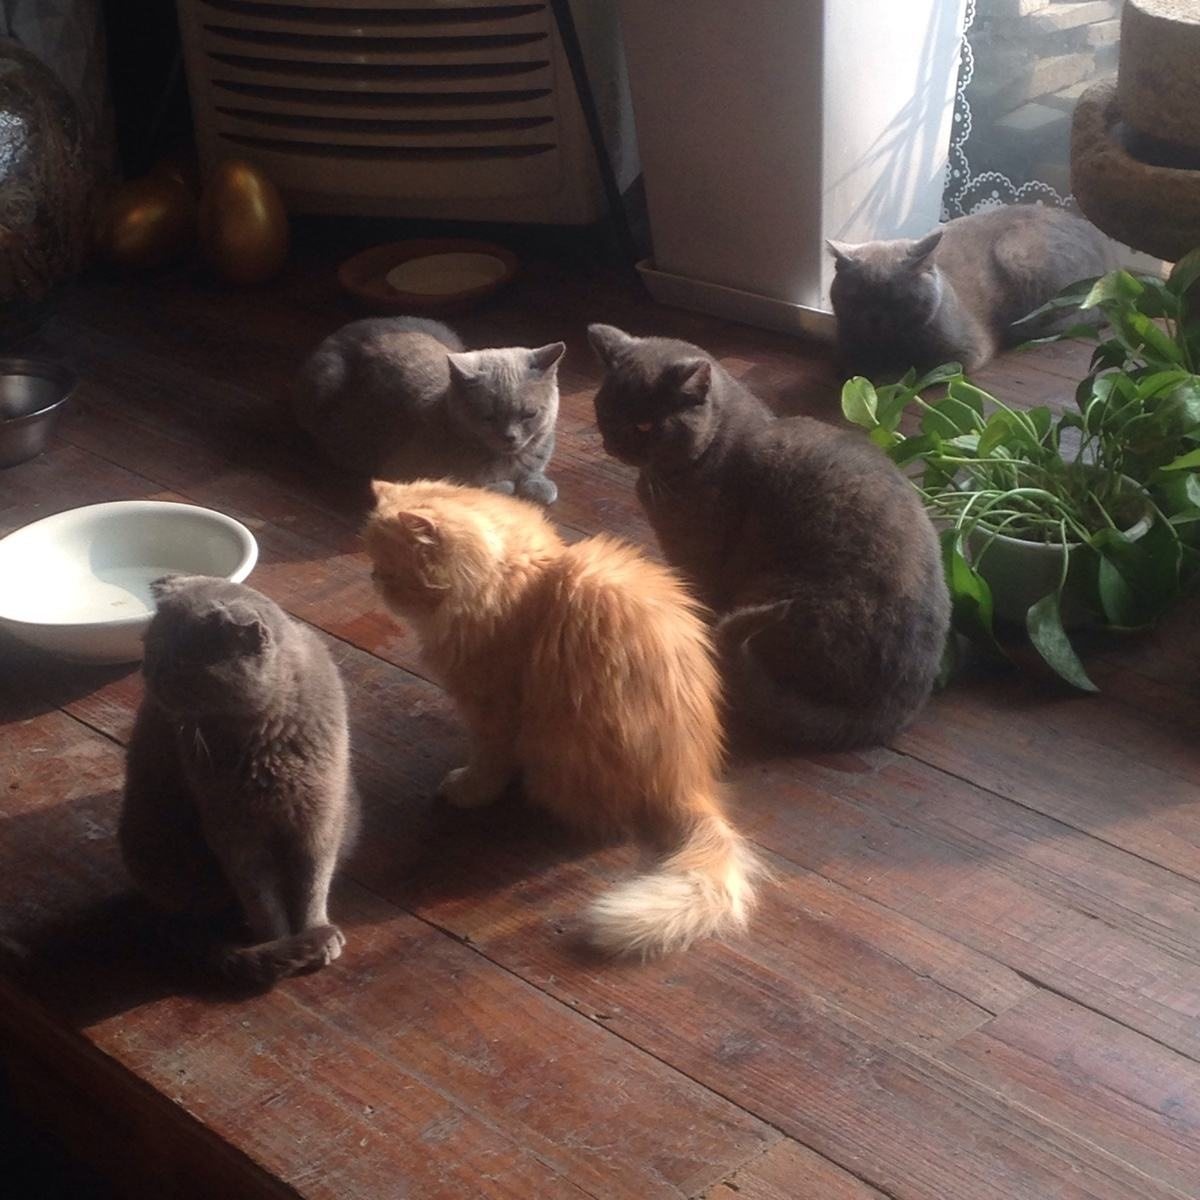cat: (359, 474, 766, 956), (582, 321, 951, 749), (116, 574, 349, 995), (287, 315, 566, 505), (832, 201, 1123, 376)
